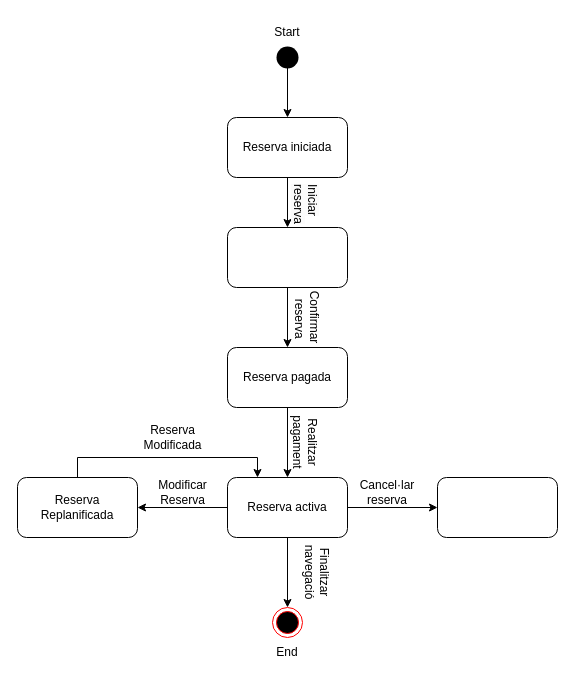
The diagram is 575 pixels wide and 684 high, and some of its shapes have lost their labels. Each missing label, with the centre of its shape:
"Reserva cancel·lada" goes at (497,507).
"Reserva confirmada" goes at (287,257).
